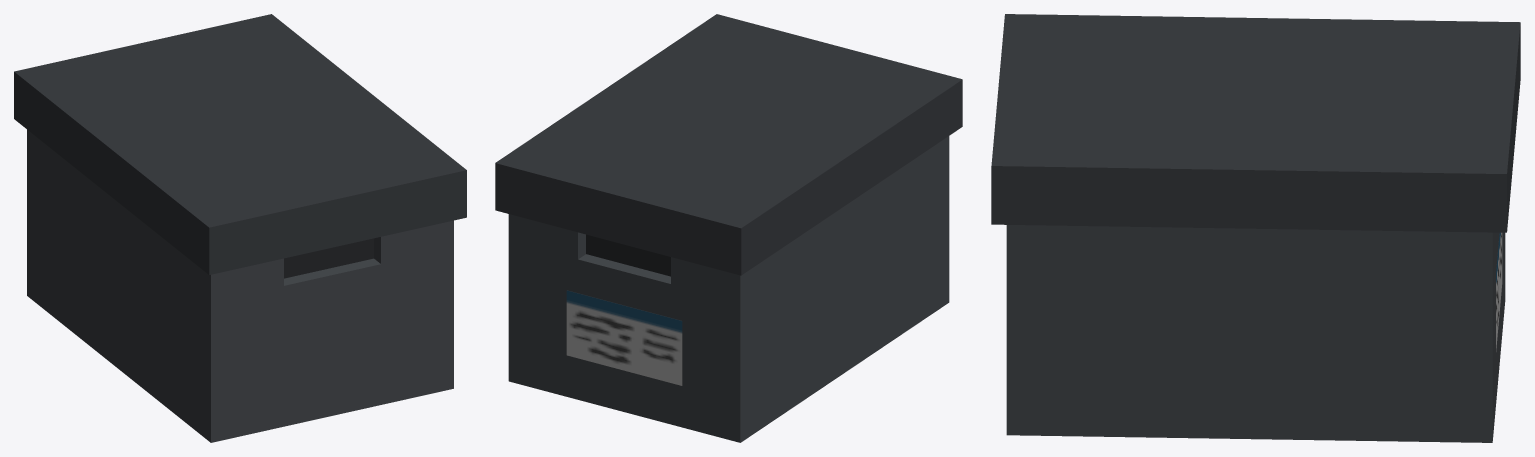
The model's file is 蟑螂巢穴黑色纸箱.fbx.
The picture shows the model from 3 angles, left to right: view 1: azimuth 30°, elevation 25°; view 2: azimuth 150°, elevation 25°; view 3: azimuth 270°, elevation 25°; orthographic projection. The views are drawn at different scales.
Parts seen in each view (by area): view 1: huitugou_2200_4110; view 2: huitugou_2200_4110; view 3: huitugou_2200_4110.
Boxes of the visible parts, x1=… form: huitugou_2200_4110: x1=14, y1=14, x2=466, y2=442; huitugou_2200_4110: x1=495, y1=14, x2=962, y2=442; huitugou_2200_4110: x1=991, y1=14, x2=1520, y2=442.
Bounding box in the file's own units: 44.27 × 35.24 × 61.79.
